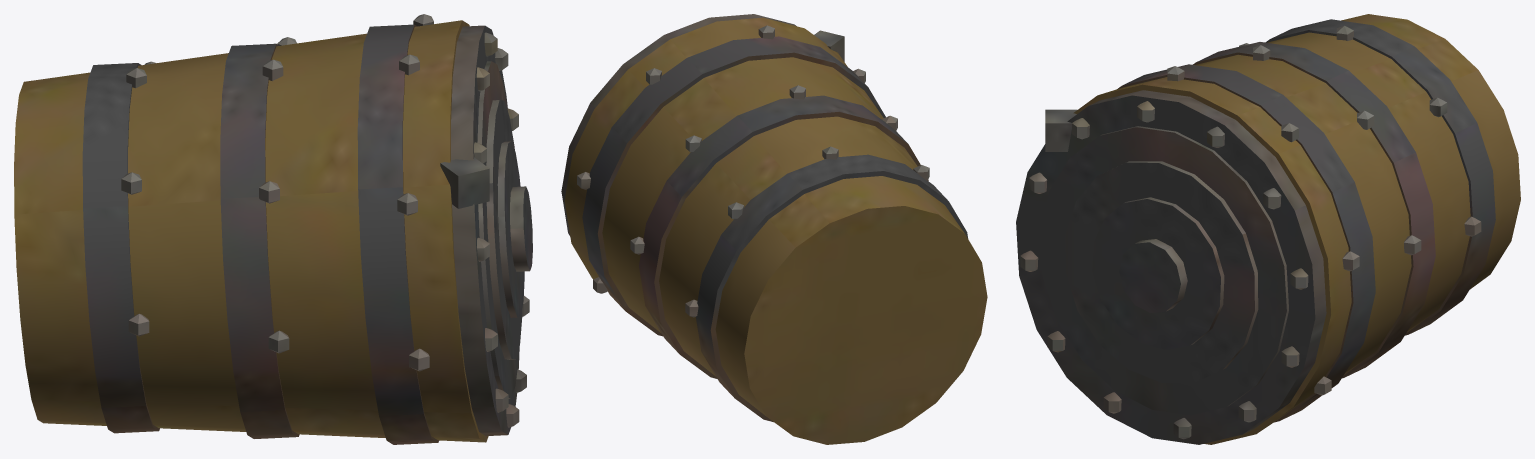
Rendered from crash-site-chest-2.glb.
3 renders of one model, left to right at view 1: azimuth 30°, elevation 25°; view 2: azimuth 150°, elevation 25°; view 3: azimuth 270°, elevation 25°, orthographic. The views are drawn at different scales.
Visible parts, largest first — view 1: body; view 2: body; view 3: body.
Boxes of the visible parts, x1,y1,x2,y2 form: body: [14, 14, 532, 444]; body: [561, 14, 987, 444]; body: [1016, 14, 1520, 444].
Size of the model in its own units: 1.32 by 0.9546 by 1.27.
1 material, 1 textured.
